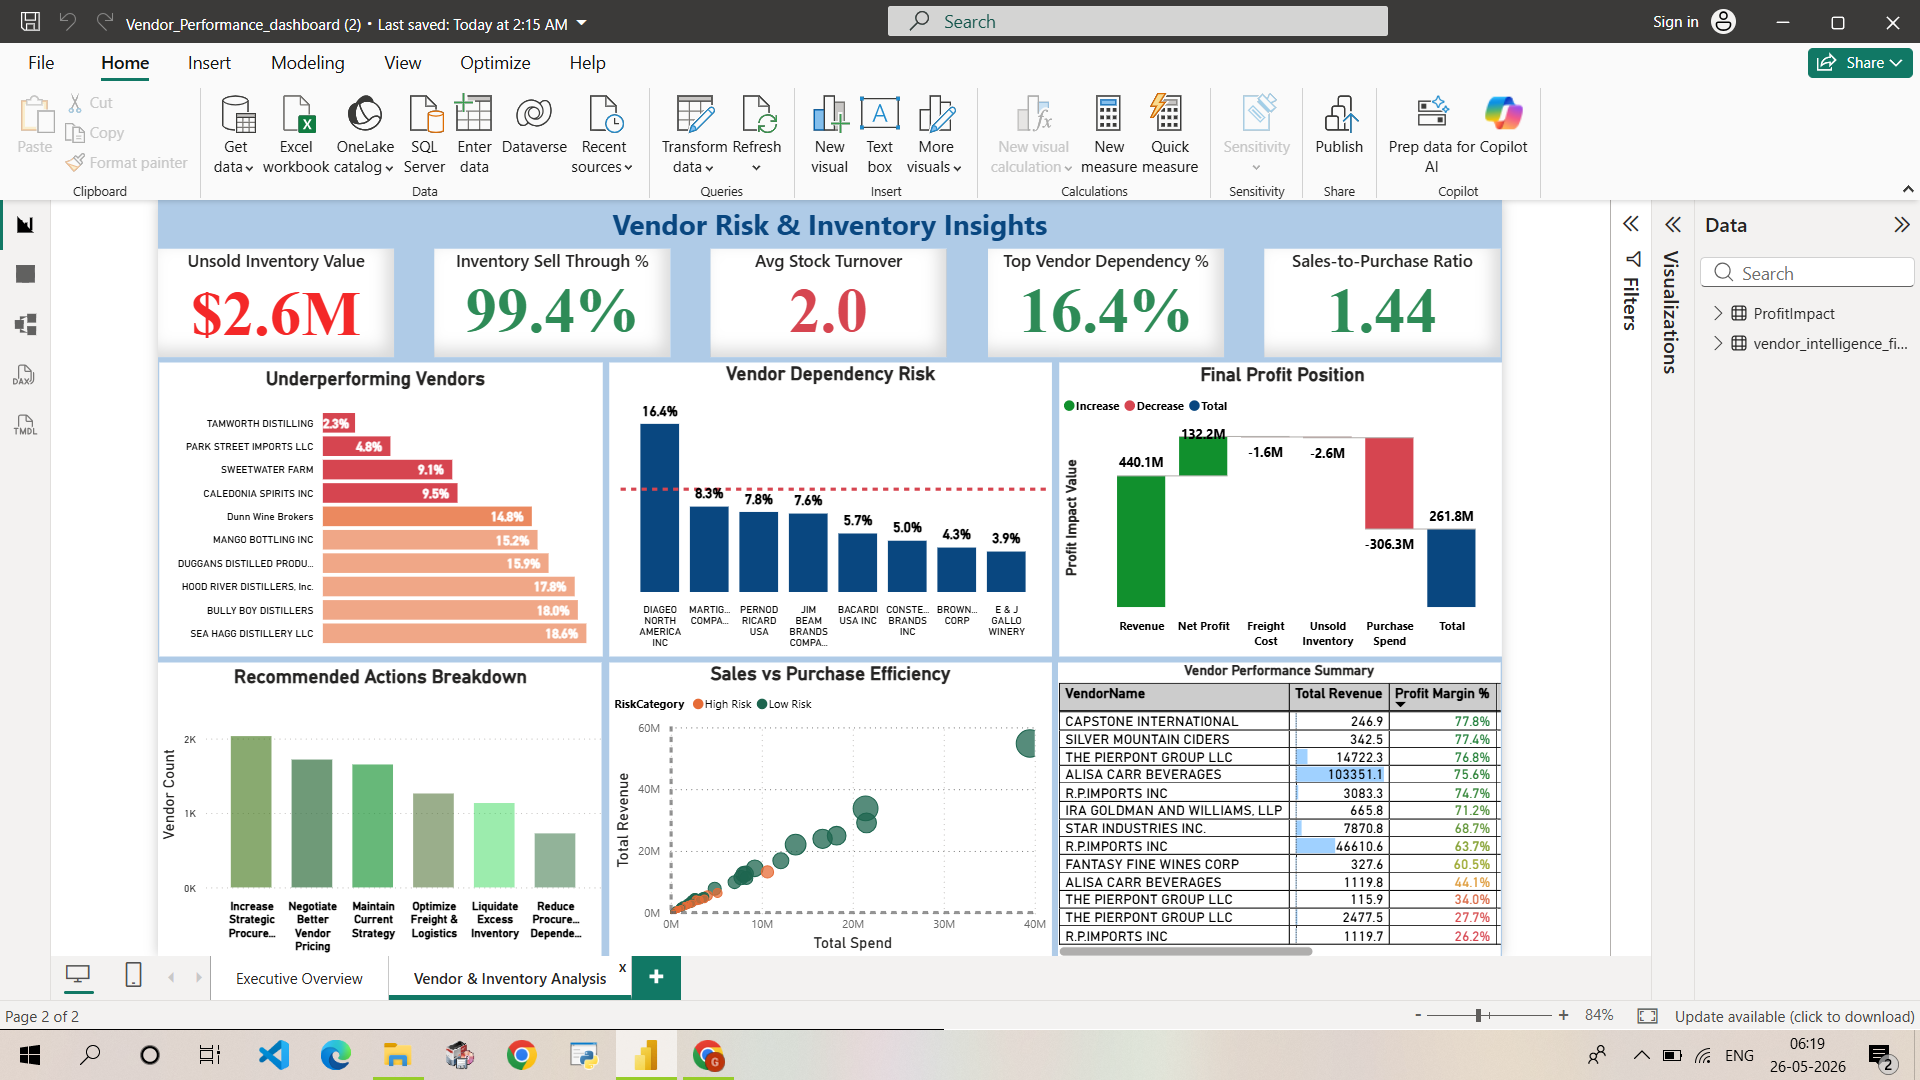

The dashboard page shown, as its layout file describes it:
{"tool":"powerbi","page":{"name":"Vendor & Inventory Analysis","canvas":[1280,720],"ordinal":1},"visuals":[{"type":"textbox","box":[0,0,1279.8,73.8],"z":0},{"type":"barChart","title":"Underperforming Vendors","fields":{"Category":["vendor_intelligence_final.VendorName"],"Y":["vendor_intelligence_final.Profit Margin %"]},"box":[1.2,154.8,422,280],"z":1000},{"type":"scatterChart","title":"Sales vs Purchase Efficiency","fields":{"X":["vendor_intelligence_final.Total Spend"],"Size":["vendor_intelligence_final.Total Profit"],"Series":["vendor_intelligence_final.RiskCategory"],"Category":["vendor_intelligence_final.VendorName"],"Y":["vendor_intelligence_final.Total Revenue"]},"box":[429.8,440.5,421.4,279.8],"z":2000},{"type":"clusteredColumnChart","title":"Vendor Dependency Risk","fields":{"Category":["vendor_intelligence_final.VendorName"],"Y":["vendor_intelligence_final.Vendor Dependency %"]},"box":[429.8,154.8,421.4,279.8],"z":3000},{"type":"clusteredColumnChart","title":"Recommended Actions Breakdown","fields":{"Category":["vendor_intelligence_final.RecommendedAction"],"Y":["vendor_intelligence_final.Vendor Count"]},"box":[0,440.5,422,280],"z":4000},{"type":"card","title":"Unsold Inventory Value","fields":{"Values":["Sum(vendor_intelligence_final.UnsoldInventoryValue)"]},"box":[0,46.7,225,103.6],"z":5000},{"type":"card","title":"Inventory Sell Through %","fields":{"Values":["vendor_intelligence_final.Avg Sell Through"]},"box":[263.4,46.4,225,103.6],"z":6000},{"type":"card","title":"Top Vendor Dependency %","fields":{"Values":["vendor_intelligence_final.Highest Vendor Dependency %"]},"box":[790.2,46.4,225,103.6],"z":7000},{"type":"card","title":"Avg Stock Turnover","fields":{"Values":["vendor_intelligence_final.Avg Stock Turnover"]},"box":[526.8,46.4,225,103.6],"z":8000},{"type":"card","title":"Sales-to-Purchase Ratio","fields":{"Values":["vendor_intelligence_final.Sales to Purchase Ratio"]},"box":[1053.6,46.4,225,103.6],"z":9000},{"type":"tableEx","title":"Vendor Performance Summary","fields":{"Values":["vendor_intelligence_final.VendorName","vendor_intelligence_final.Total Revenue","vendor_intelligence_final.Profit Margin %","vendor_intelligence_final.Sell Through %","vendor_intelligence_final.RecommendedAction"]},"box":[857.1,440.7,421.4,279.8],"z":10000},{"type":"waterfallChart","title":"Final Profit Position","fields":{"Category":["ProfitImpact.Metric"],"Y":["ProfitImpact.Profit Impact Value"]},"box":[858.3,154.8,421.4,279.8],"z":12000}]}

Visuals, with their boxes on the page's 1280x720 design canvas (x1, y1, x2, y2). These are canvas units, not pixel positions in the 1920x1080 screenshot, which may show the page scaled, cropped or inside an application window:
textbox: [left=0, top=0, right=1280, bottom=74]
"Underperforming Vendors" barChart: [left=1, top=155, right=423, bottom=435]
"Sales vs Purchase Efficiency" scatterChart: [left=430, top=440, right=851, bottom=720]
"Vendor Dependency Risk" clusteredColumnChart: [left=430, top=155, right=851, bottom=435]
"Recommended Actions Breakdown" clusteredColumnChart: [left=0, top=440, right=422, bottom=720]
"Unsold Inventory Value" card: [left=0, top=47, right=225, bottom=150]
"Inventory Sell Through %" card: [left=263, top=46, right=488, bottom=150]
"Top Vendor Dependency %" card: [left=790, top=46, right=1015, bottom=150]
"Avg Stock Turnover" card: [left=527, top=46, right=752, bottom=150]
"Sales-to-Purchase Ratio" card: [left=1054, top=46, right=1279, bottom=150]
"Vendor Performance Summary" tableEx: [left=857, top=441, right=1278, bottom=720]
"Final Profit Position" waterfallChart: [left=858, top=155, right=1280, bottom=435]
